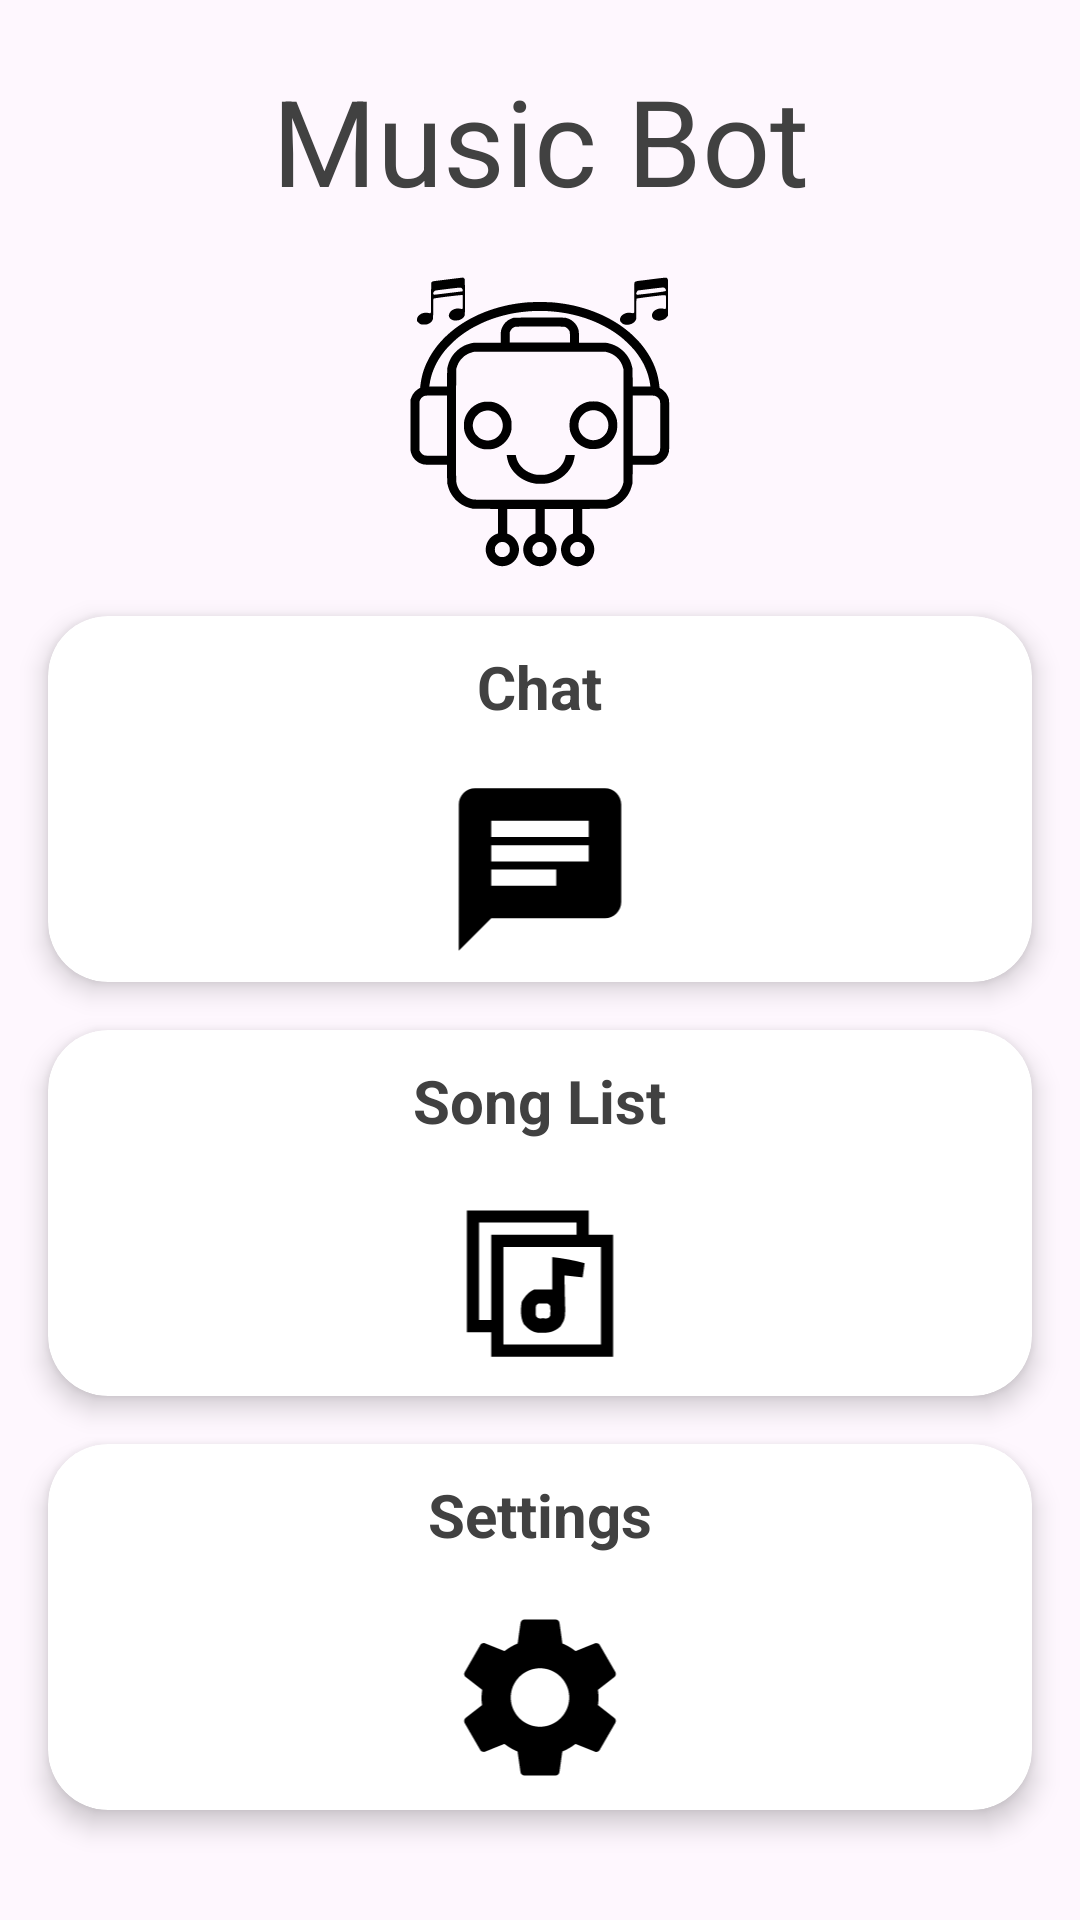

Point at icon controls on the screen. Image size 1080×1920, points as (x=x, y=y).
music library: (x=540, y=1283)
roboicon: (x=540, y=422)
